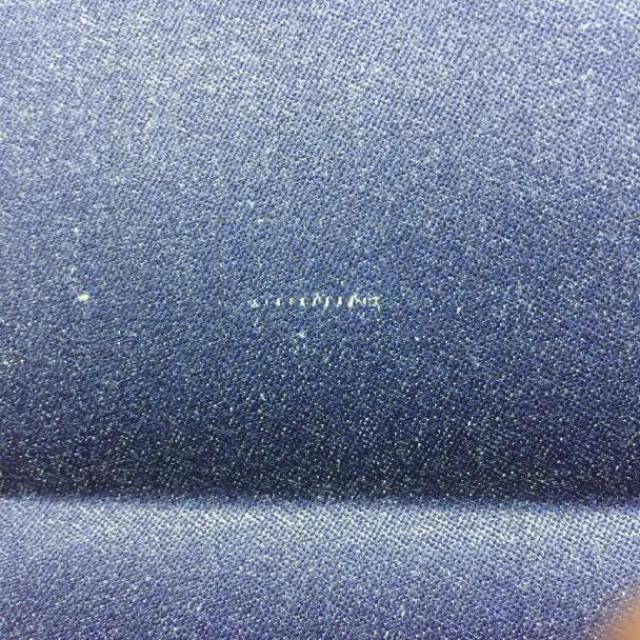Knot: (247, 293, 382, 310)
